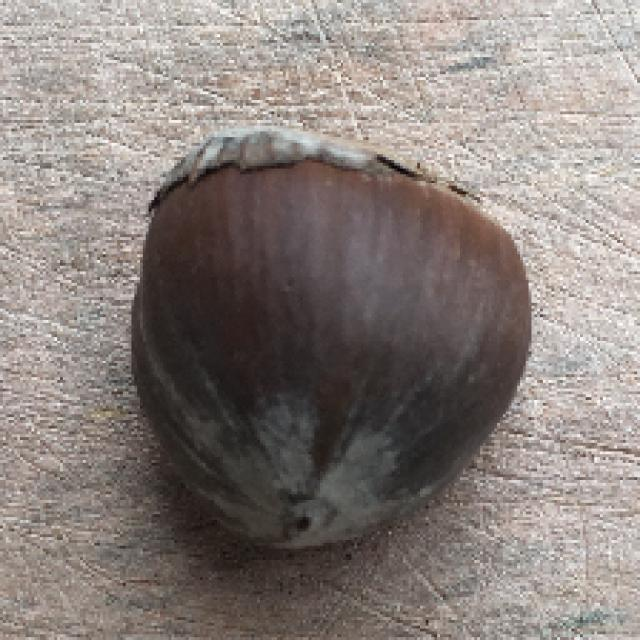damagedHazelnut: (125, 131, 532, 558)
